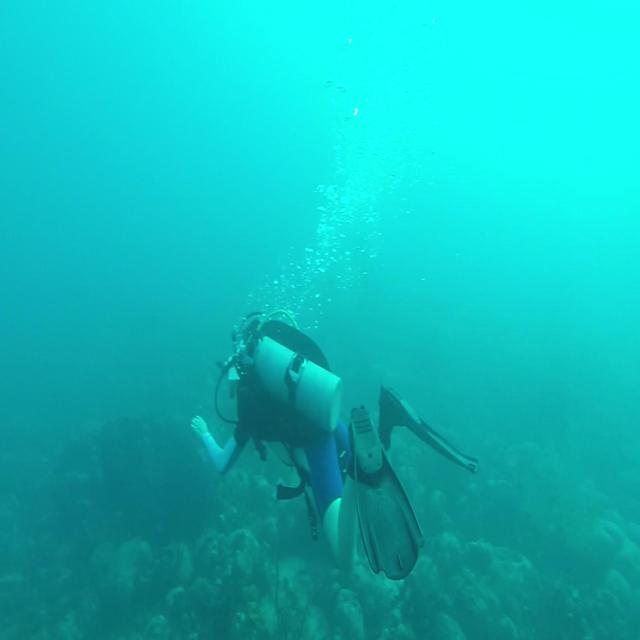human: (190, 307, 479, 584)
